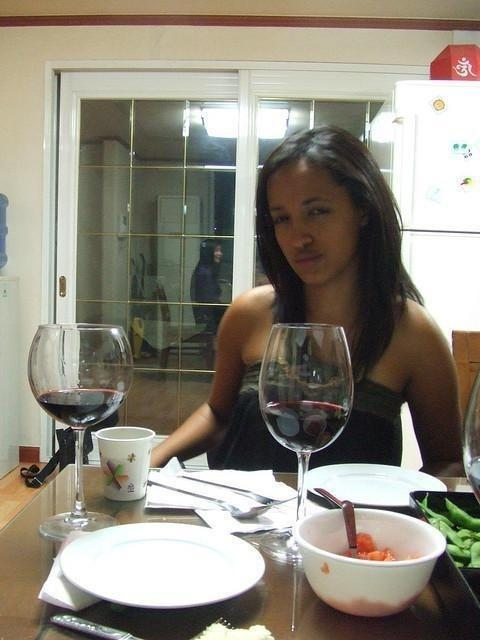cup-disposable: (94, 426, 158, 503)
glass-wine: (27, 322, 136, 543), (258, 324, 355, 566)
